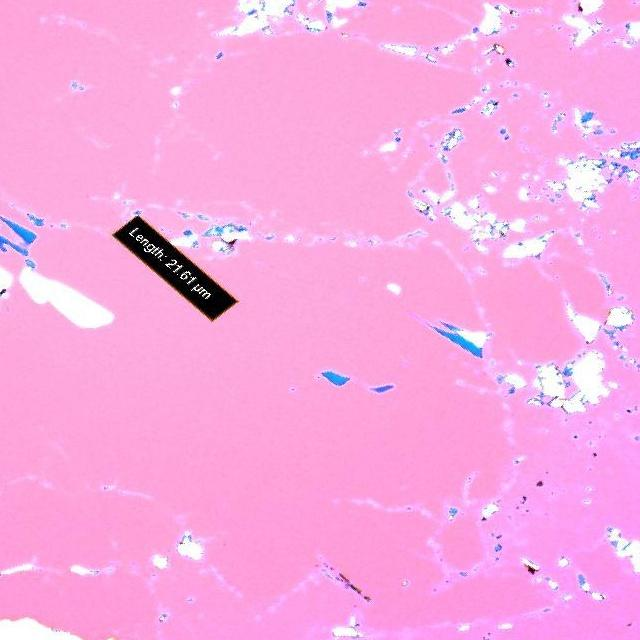monolayer-eWW4: (18, 238, 32, 250)
